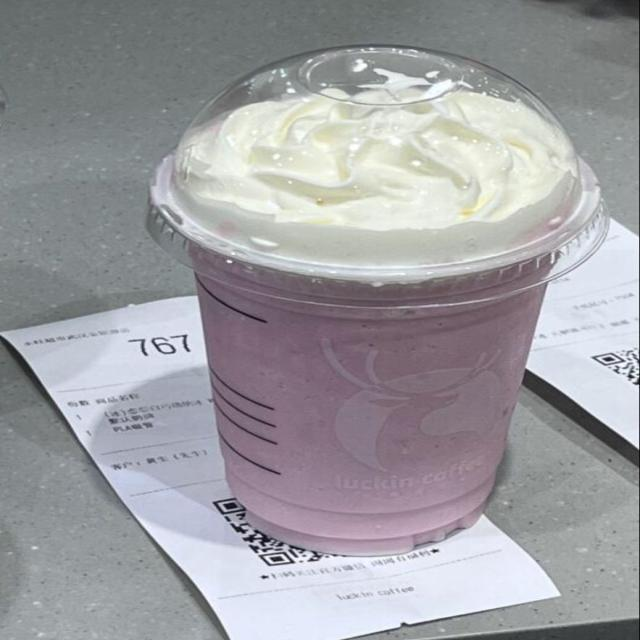plastic cup: (150, 44, 611, 556)
